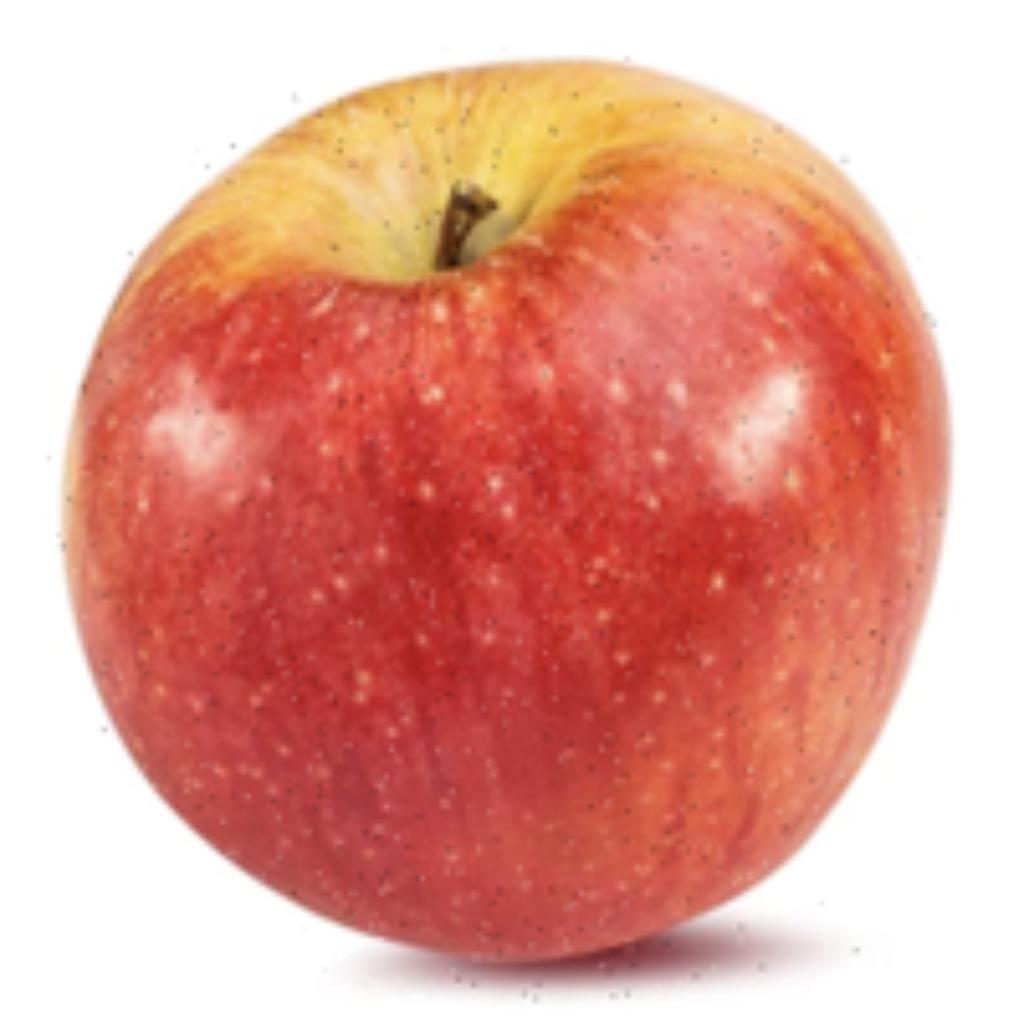apple: (41, 41, 957, 1009)
